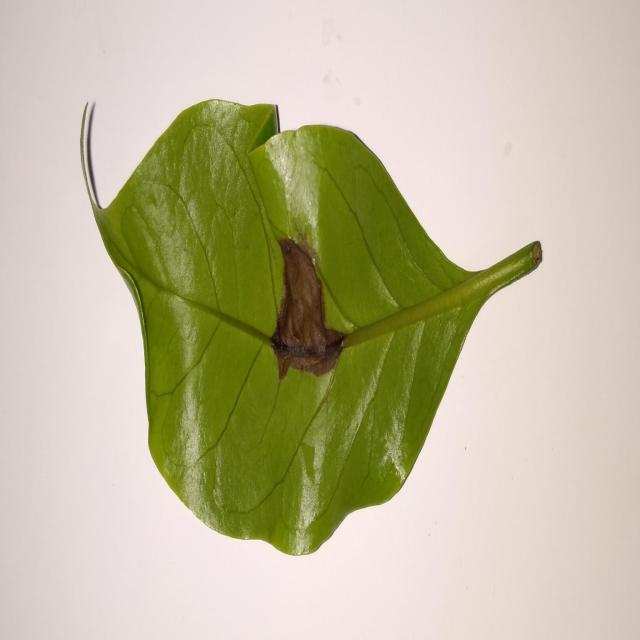Enfermedad-Antracnosis: (80, 100, 543, 559)
